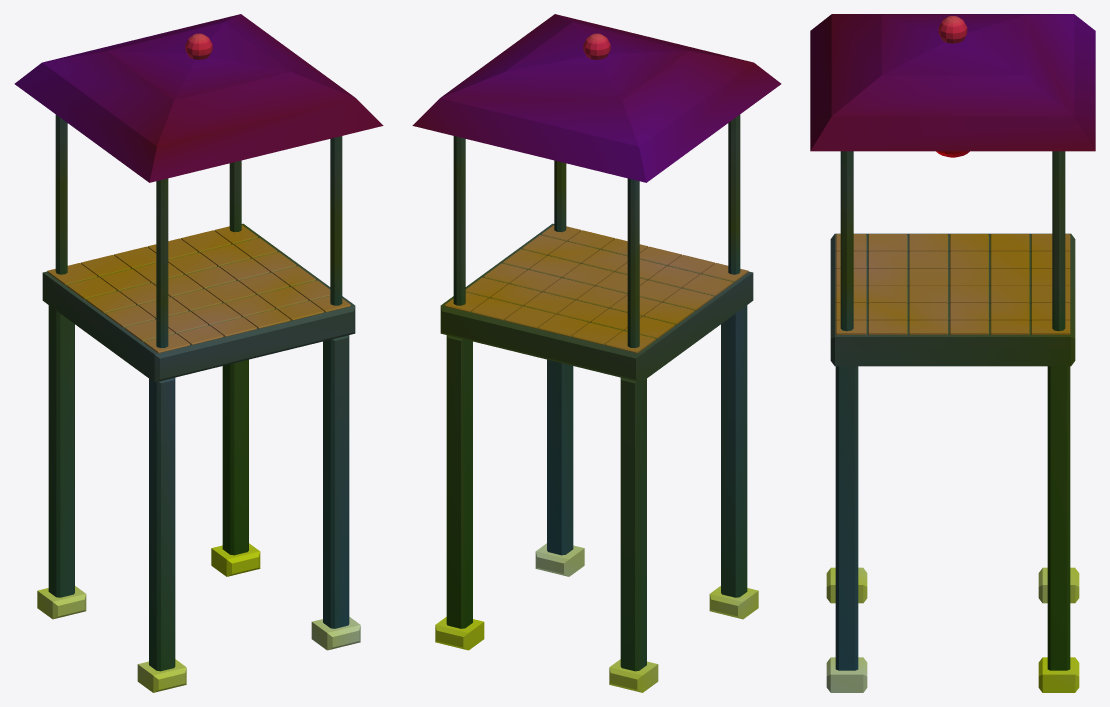
File: GS_Footbridge_Landing.fbx
The picture shows the model from 3 angles, left to right: view 1: azimuth 30°, elevation 25°; view 2: azimuth 150°, elevation 25°; view 3: azimuth 270°, elevation 25°; orthographic projection. The views are drawn at different scales.
Visible parts, largest first — view 1: GS_Footbridge_Landing; view 2: GS_Footbridge_Landing; view 3: GS_Footbridge_Landing.
Boxes of the visible parts, x1,y1,x2,y2 form: GS_Footbridge_Landing: (14,14,383,692); GS_Footbridge_Landing: (412,14,781,692); GS_Footbridge_Landing: (810,14,1095,692).
Bounding box in the file's own units: 3.5 × 8.43 × 3.5.
